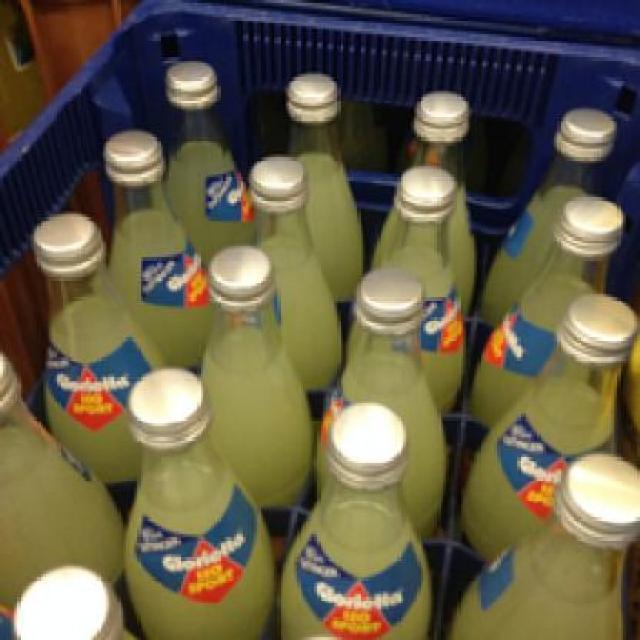Soda: (452, 286, 638, 546), (122, 363, 278, 637), (440, 434, 634, 637), (25, 206, 158, 474), (280, 392, 420, 638), (0, 349, 126, 600), (320, 263, 443, 520), (192, 246, 312, 488)
